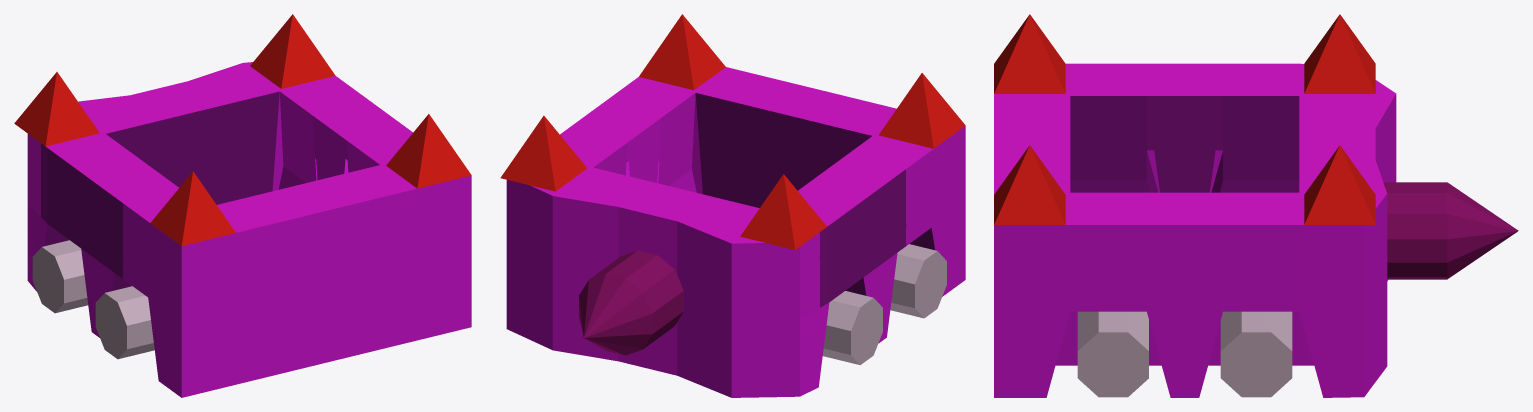
Rendered from coaster_car.obj.
3 views of the same model, side by side, from view 1: azimuth 30°, elevation 25°; view 2: azimuth 150°, elevation 25°; view 3: azimuth 270°, elevation 25° (orthographic). The views are drawn at different scales.
Visible parts, largest first — view 1: main_car, cylinder.004, top_spike_rear_right, top_spike_front_left, top_spike_front_right, top_spike_rear_left, cylinder.002; view 2: main_car, cone, cylinder.002, cylinder, top_spike_front_right, top_spike_rear_right, top_spike_front_left, top_spike_rear_left, cylinder.004; view 3: main_car, cylinder, cylinder.001, cylinder.003, top_spike_rear_left, top_spike_front_left, top_spike_front_right, top_spike_rear_right, cone.
Part boxes in pixels (x1,y1,x2,y2): main_car: (27, 62, 471, 397); cylinder.004: (95, 286, 154, 359); top_spike_rear_right: (386, 114, 471, 188); top_spike_front_left: (14, 72, 99, 146); top_spike_front_right: (250, 14, 335, 88); top_spike_rear_left: (150, 171, 235, 245); cylinder.002: (32, 240, 88, 313); main_car: (506, 67, 965, 397); cone: (579, 274, 652, 355); cylinder.002: (822, 291, 882, 365); cylinder: (589, 250, 683, 348); top_spike_front_right: (500, 115, 587, 191); top_spike_rear_right: (639, 14, 725, 90); top_spike_front_left: (740, 174, 826, 249); top_spike_rear_left: (879, 73, 965, 148); cylinder.004: (890, 244, 946, 318); main_car: (994, 63, 1396, 397); cylinder: (1383, 182, 1447, 279); cylinder.001: (1220, 311, 1292, 397); cylinder.003: (1077, 311, 1148, 397); top_spike_rear_left: (994, 14, 1065, 93); top_spike_front_left: (1304, 14, 1375, 93); top_spike_front_right: (1304, 145, 1375, 224); top_spike_rear_right: (994, 145, 1065, 224); cone: (1447, 182, 1518, 279).
Bounding box in the file's own units: 1.12 × 0.6875 × 1.38.
